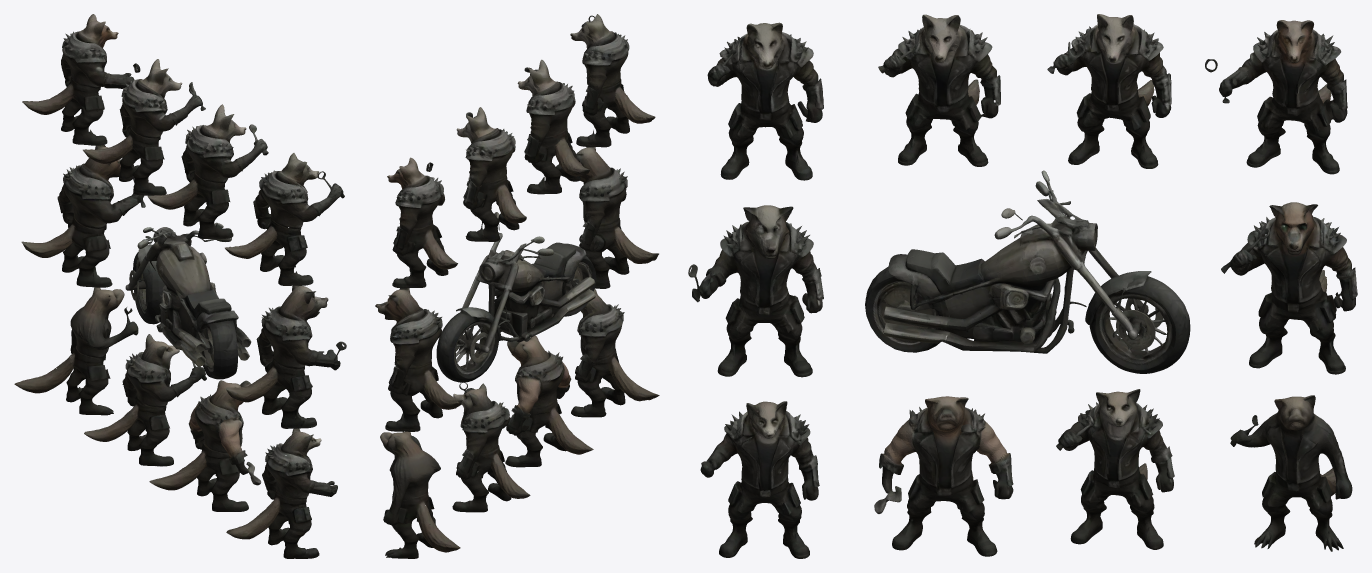
The model's file is biker characters 3d model.glb.
3 views of the same model, side by side, from view 1: azimuth 30°, elevation 25°; view 2: azimuth 150°, elevation 25°; view 3: azimuth 270°, elevation 25° (orthographic). The views are drawn at different scales.
Visible parts, largest first — view 1: tripo_node_14953f07-09f4-4568-a1b0-e26e27b11b85; view 2: tripo_node_14953f07-09f4-4568-a1b0-e26e27b11b85; view 3: tripo_node_14953f07-09f4-4568-a1b0-e26e27b11b85.
Part boxes in pixels (x1,y1,x2,y2): tripo_node_14953f07-09f4-4568-a1b0-e26e27b11b85: (14,14,346,558); tripo_node_14953f07-09f4-4568-a1b0-e26e27b11b85: (375,14,659,558); tripo_node_14953f07-09f4-4568-a1b0-e26e27b11b85: (688,14,1357,558).
Size of the model in its own units: 0.2535 by 0.8821 by 0.9997.
1 material, 1 textured.
